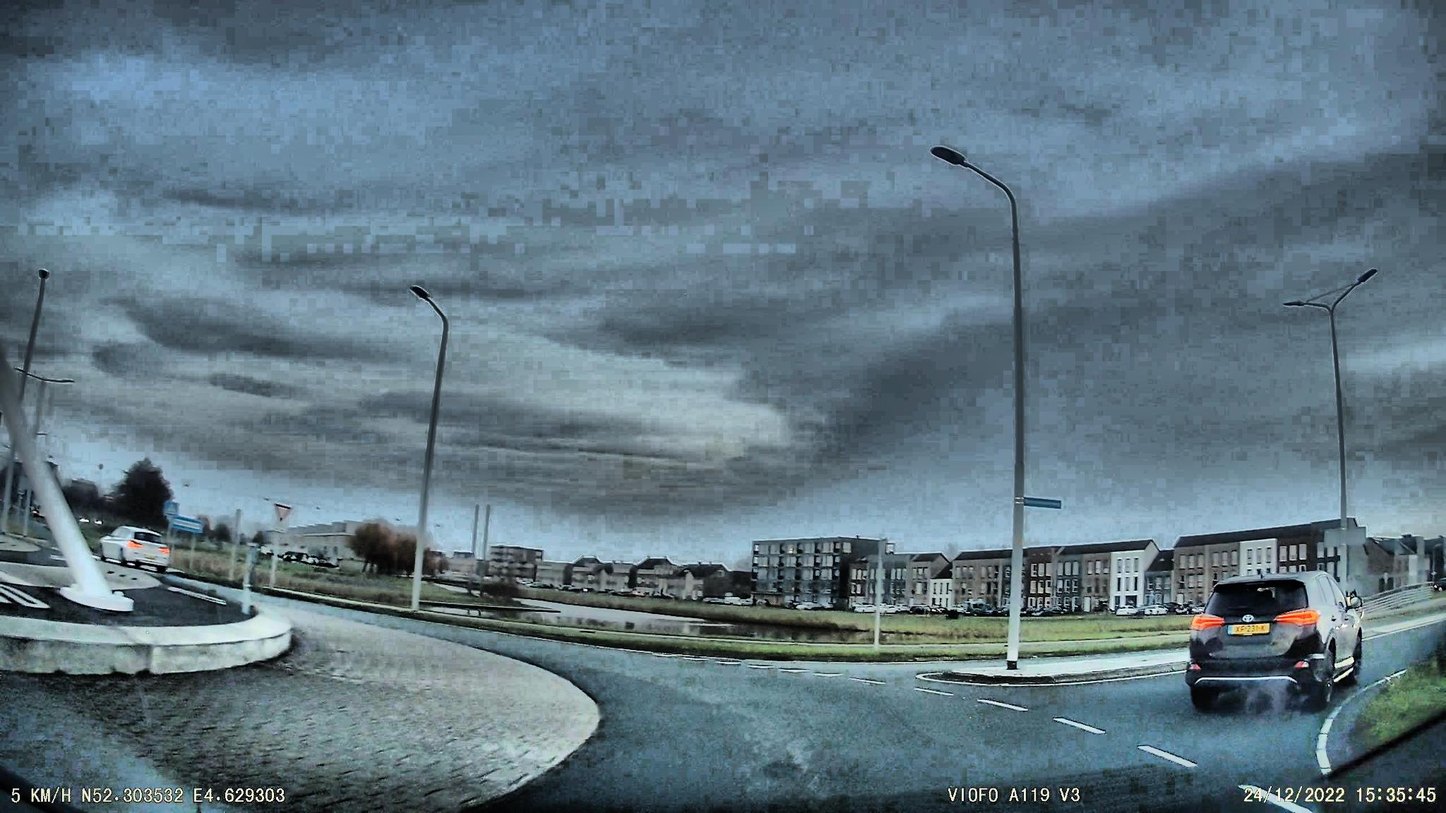Roads: (281, 603, 1321, 813)
